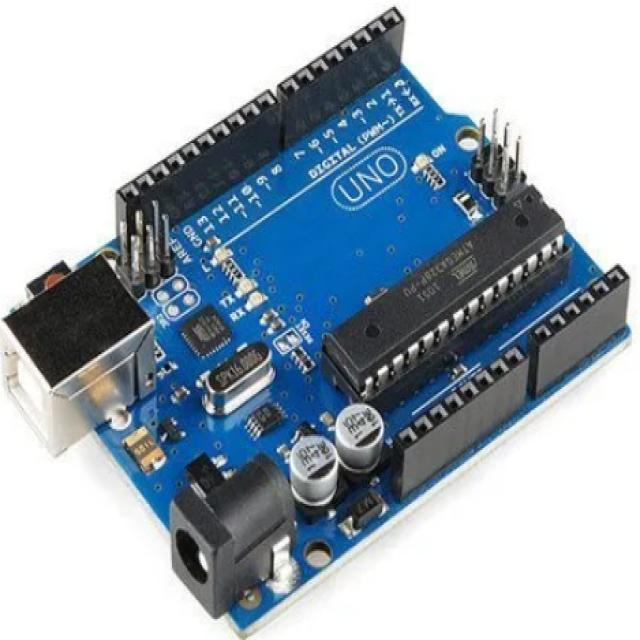arduino: (1, 7, 639, 640)
